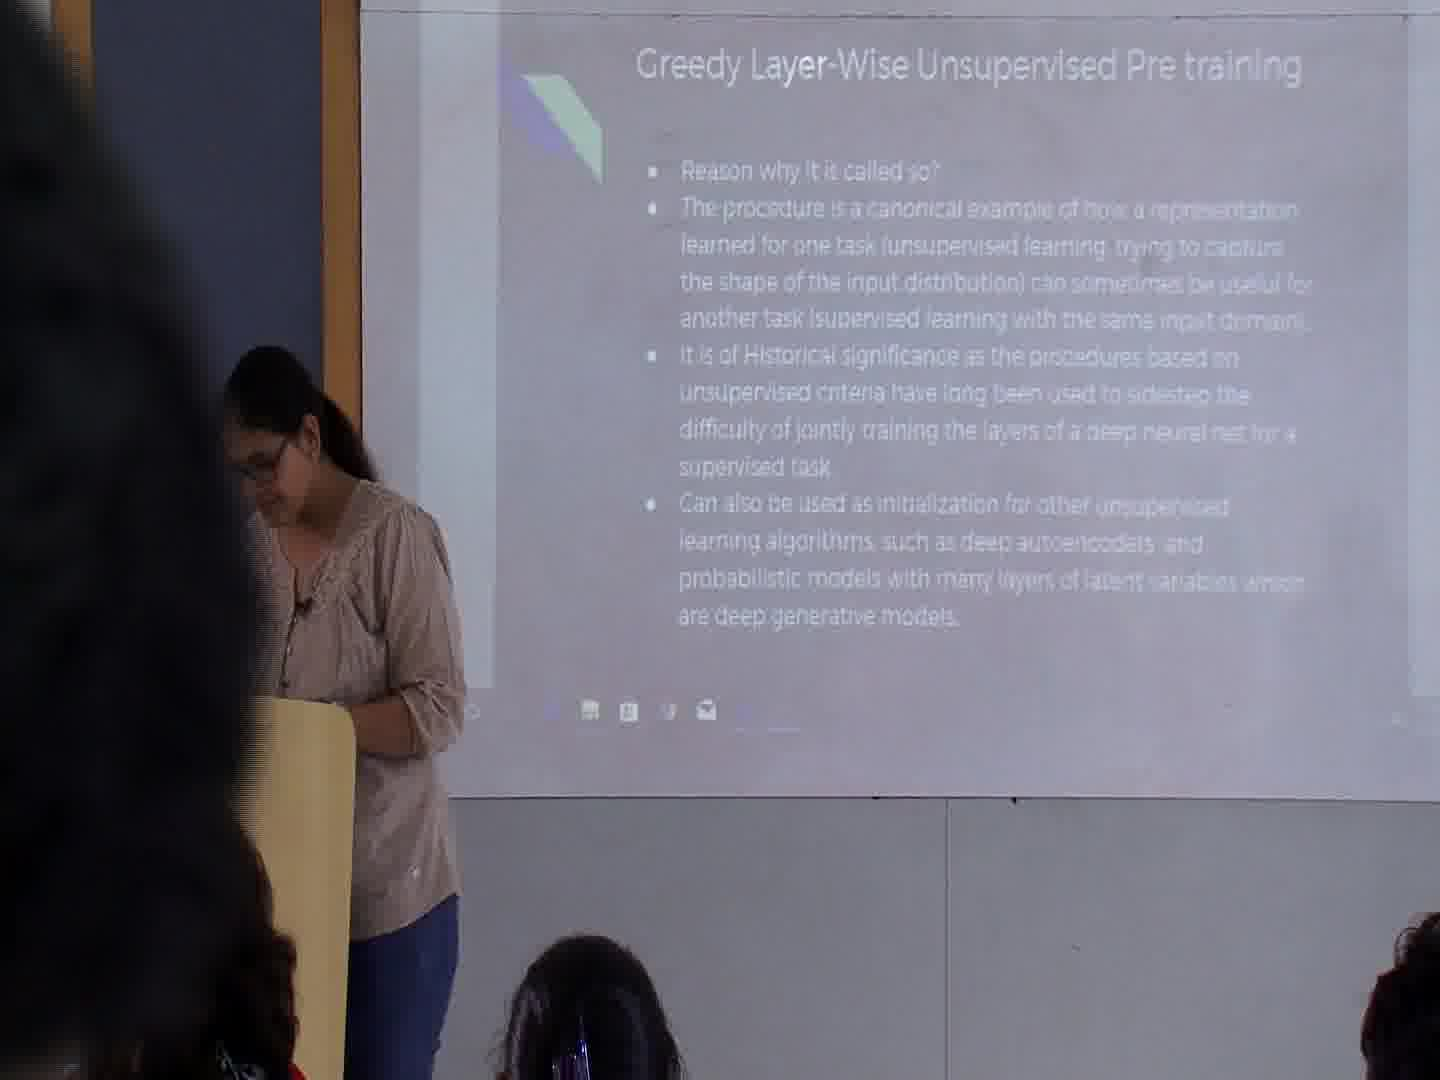slide: (420, 1, 1440, 735)
